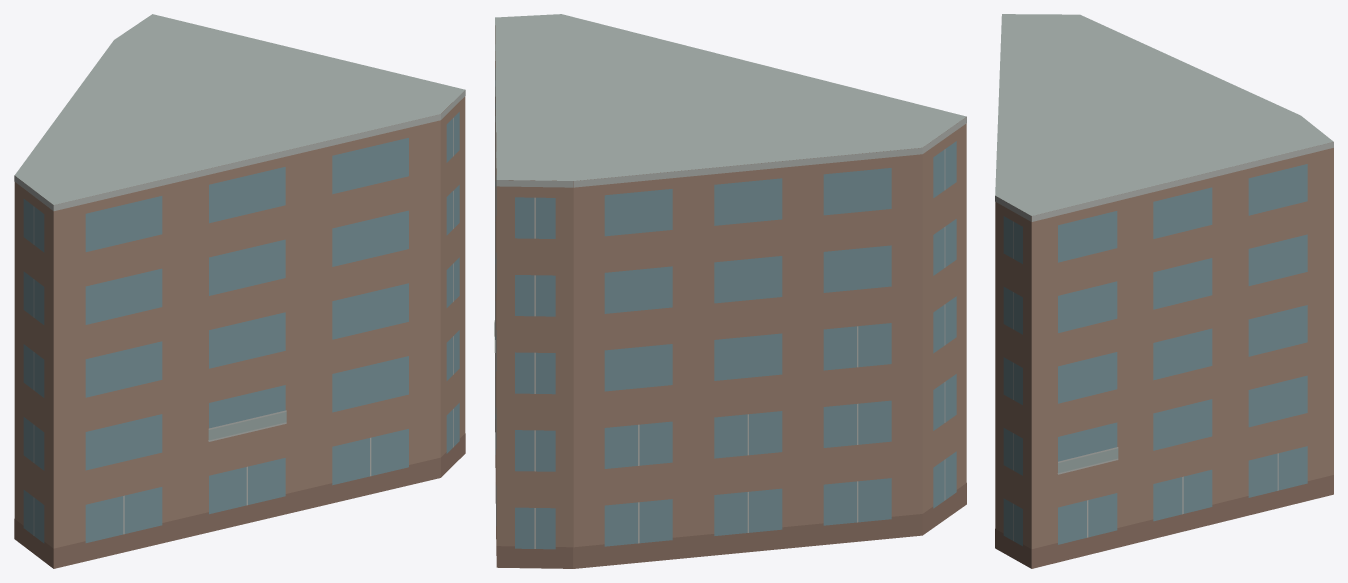
File: survey-upis-33022597.glb
The picture shows the model from 3 angles, left to right: view 1: azimuth 30°, elevation 25°; view 2: azimuth 150°, elevation 25°; view 3: azimuth 270°, elevation 25°; orthographic projection. The views are drawn at different scales.
Visible parts, largest first — view 1: survey-upis-33022597.tmp; view 2: survey-upis-33022597.tmp; view 3: survey-upis-33022597.tmp.
Part boxes in pixels (left/top/right/bottom): survey-upis-33022597.tmp: left=14, top=14, right=465, bottom=568; survey-upis-33022597.tmp: left=494, top=14, right=966, bottom=568; survey-upis-33022597.tmp: left=995, top=14, right=1333, bottom=568.
Size of the model in its own units: 17.68 by 14.38 by 12.52.
